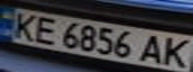5: (93, 25, 118, 56)
6: (112, 28, 139, 60), (57, 20, 84, 50)
8: (75, 23, 100, 53)
A: (136, 33, 169, 65)
E: (27, 15, 63, 45)
K: (157, 35, 193, 69), (3, 10, 42, 40)
